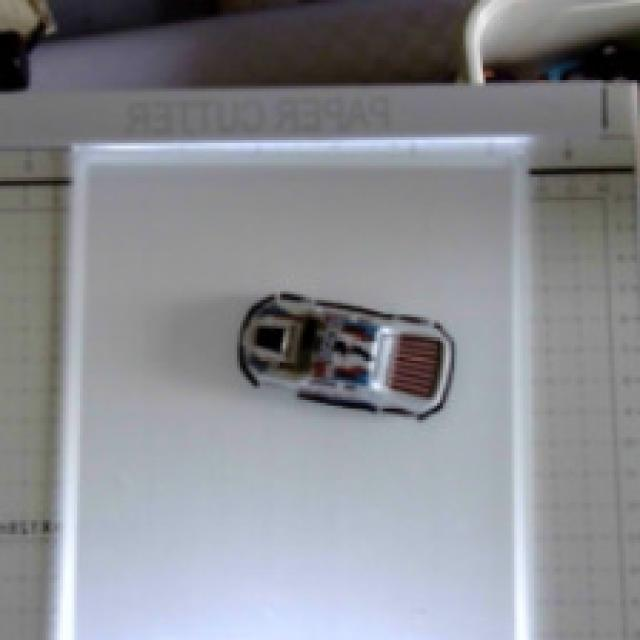Grey Car: (178, 231, 521, 464)
